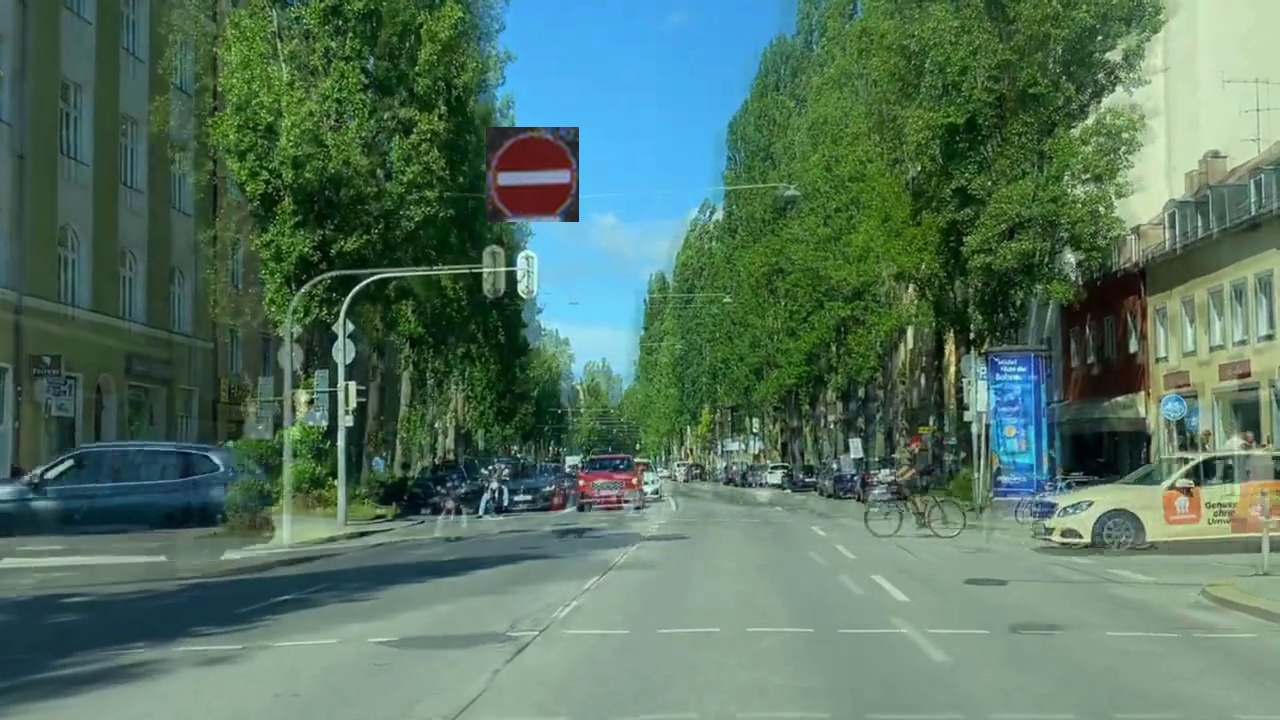No entry: (486, 127, 579, 222)
